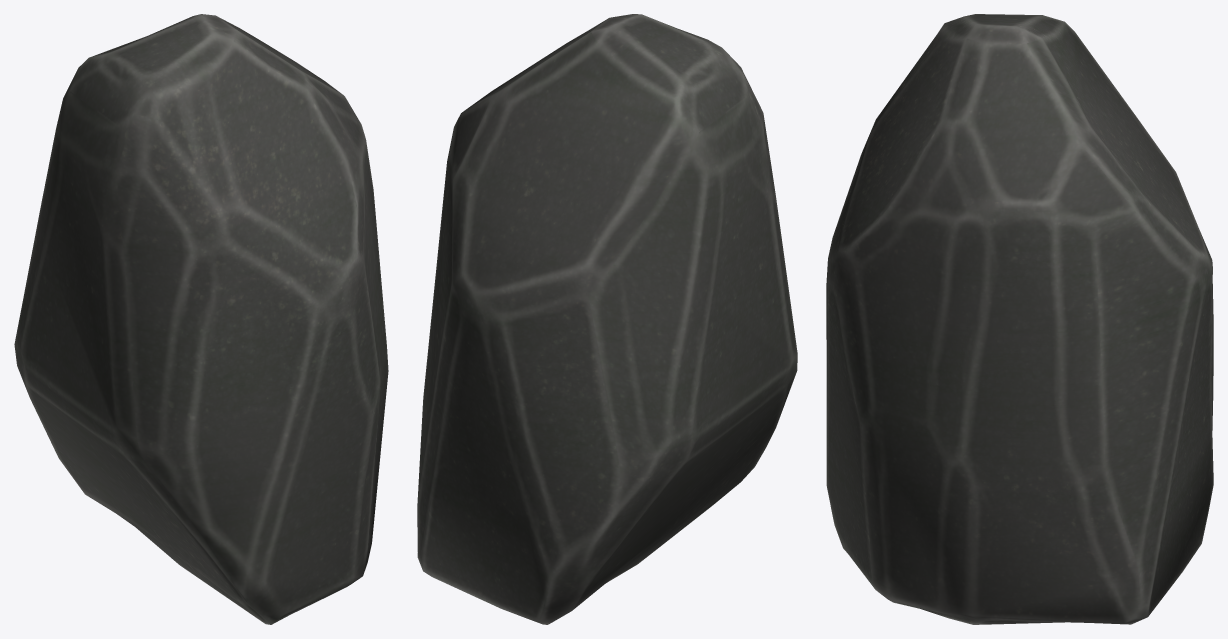
The model's file is Stylized Rocks 4.fbx.
The picture shows the model from 3 angles, left to right: view 1: azimuth 30°, elevation 25°; view 2: azimuth 150°, elevation 25°; view 3: azimuth 270°, elevation 25°; orthographic projection.
Parts seen in each view (by area): view 1: Stylized Rocks 4; view 2: Stylized Rocks 4; view 3: Stylized Rocks 4.
Part boxes in pixels (bbox=[...]): Stylized Rocks 4: bbox=[14, 14, 388, 624]; Stylized Rocks 4: bbox=[417, 14, 797, 624]; Stylized Rocks 4: bbox=[826, 14, 1213, 624].
Size of the model in its own units: 223 by 401 by 262.
Materials: 1 (1 with a texture image).
